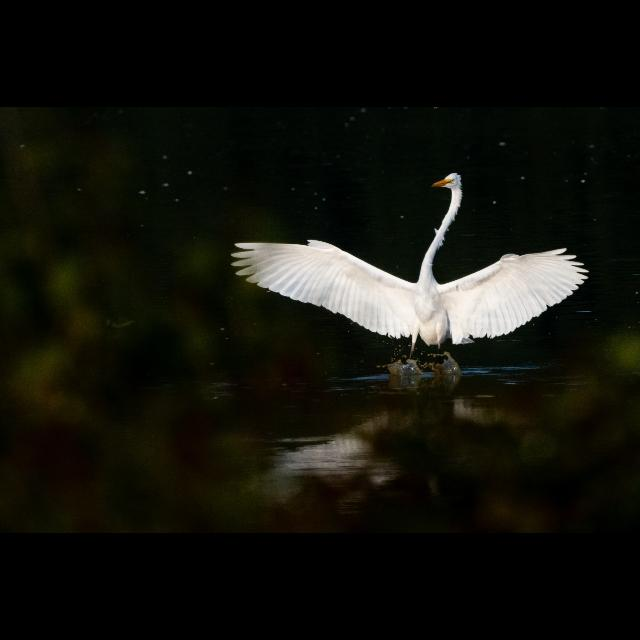egret: (224, 168, 594, 376)
